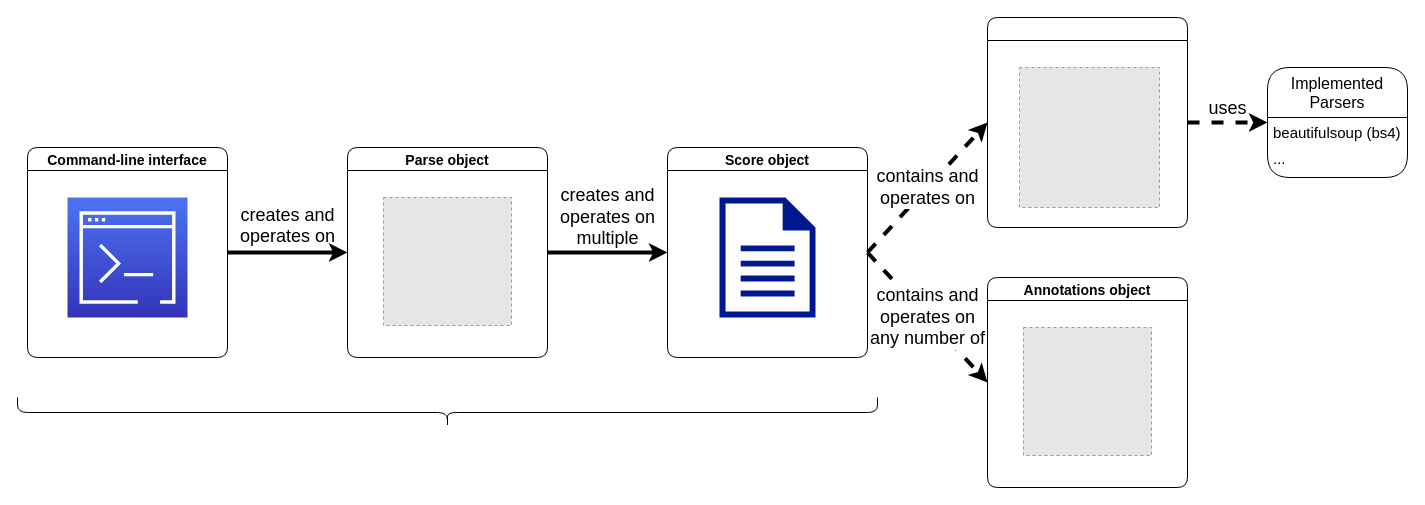
This 1425x505 diagram has some shape labels left out. Grey dashed boxes stand in for pictures. Each missing label, with the box of its shape:
MSCX object: (986, 16, 1188, 228)
User interface: (16, 396, 878, 428)
